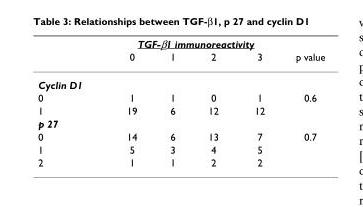table: (37, 36, 324, 167)
table column: (37, 36, 103, 167), (103, 36, 152, 167), (279, 36, 324, 167), (191, 36, 235, 167), (235, 36, 279, 167), (152, 36, 191, 167)
table column header: (37, 36, 324, 70)
table projected row header: (37, 70, 324, 90), (37, 116, 324, 129)
table row: (37, 50, 324, 70), (37, 70, 324, 90), (37, 36, 324, 50), (37, 90, 324, 103), (37, 103, 324, 116), (37, 116, 324, 129), (37, 129, 324, 142), (37, 142, 324, 155), (37, 155, 324, 167)
table spanning cell: (103, 36, 279, 50), (279, 36, 324, 70)
